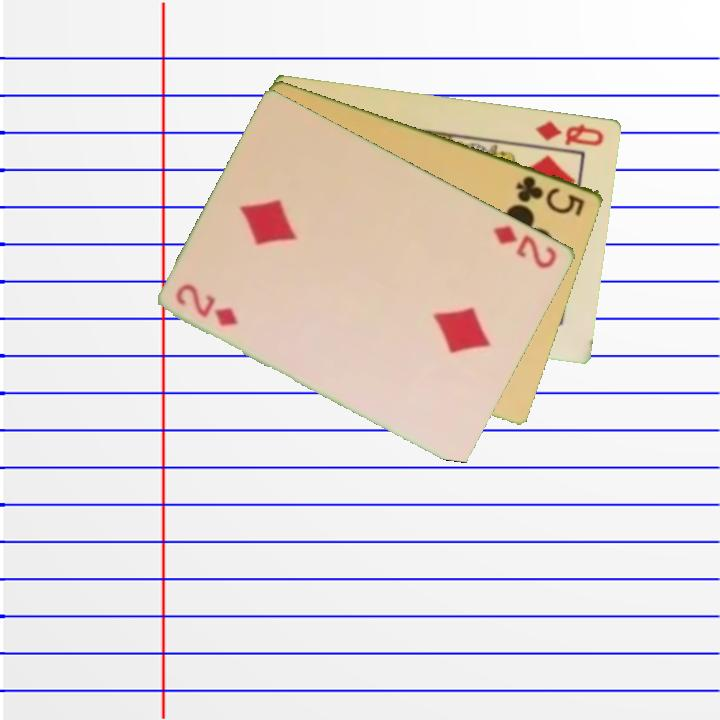2d: (491, 222, 561, 272), (172, 280, 241, 329)
5c: (513, 172, 588, 219)
Qd: (532, 117, 607, 149)
